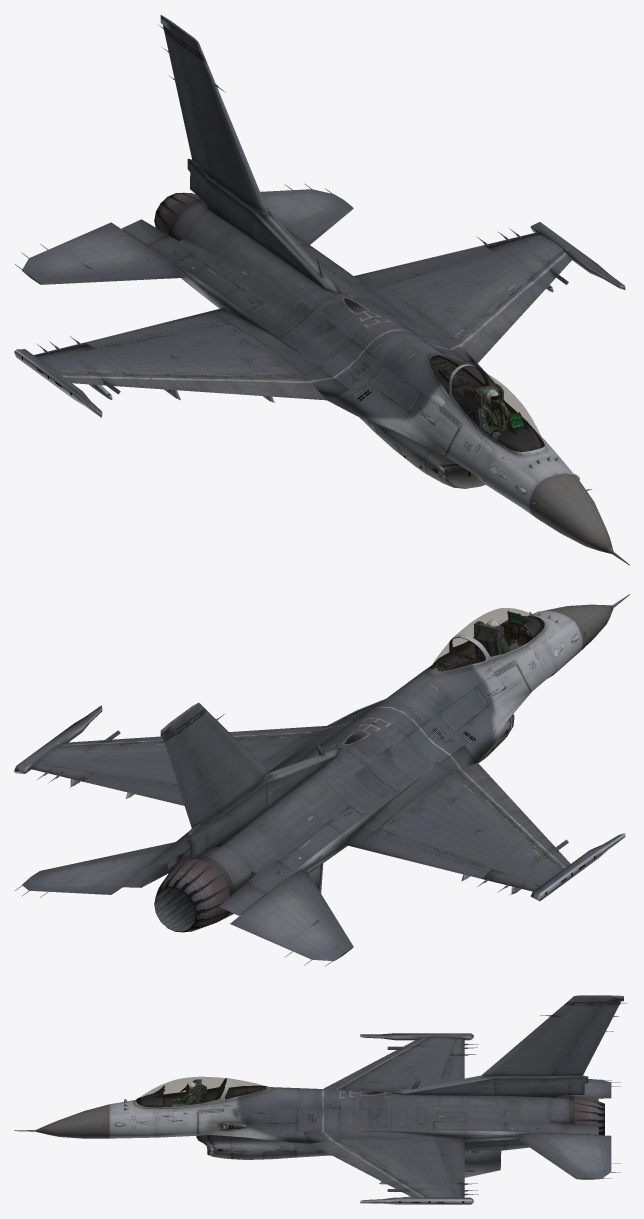
File: F-16A_FightingFalcon.dat.obj
3 renders of one model, top to bottom at view 1: azimuth 30°, elevation 25°; view 2: azimuth 150°, elevation 25°; view 3: azimuth 270°, elevation 25°, orthographic. The views are drawn at different scales.
Visible parts, largest first — view 1: F-16A_LOD0, F-16A_ElevatorR01, F-16A_Glass01, F-16A_VoletR01, F-16A_VoletL01, F-16A_ElevatorL01, F-16A_AileronR01, F-16A_AileronL01, F-16A_Canopy01, F-16A_RudderL01, F-16A_Pilot, F-16A_EngineL01; view 2: F-16A_LOD0, F-16A_ElevatorR01, F-16A_EngineL01, F-16A_ElevatorL01, F-16A_Glass01, F-16A_AileronR01, F-16A_VoletR01, F-16A_RudderL01, F-16A_AileronL01, F-16A_Canopy01, F-16A_VoletL01, F-16A_Eject_Seat (+2 smaller); view 3: F-16A_LOD0, F-16A_ElevatorL01, F-16A_Glass01, F-16A_RudderL01, F-16A_VoletL01, F-16A_AileronL01, F-16A_Canopy01, F-16A_EngineL01, F-16A_VoletR01, F-16A_ElevatorR01, F-16A_AileronR01, F-16A_BrakeL01 (+1 smaller).
Part boxes in pixels (box(x1,y1,x2,y2)): F-16A_LOD0: box(14, 15, 629, 565); F-16A_ElevatorR01: box(15, 222, 186, 284); F-16A_Glass01: box(430, 355, 544, 451); F-16A_VoletR01: box(58, 373, 326, 400); F-16A_VoletL01: box(456, 250, 572, 363); F-16A_ElevatorL01: box(260, 183, 353, 244); F-16A_AileronR01: box(84, 308, 246, 348); F-16A_AileronL01: box(354, 245, 493, 289); F-16A_Canopy01: box(438, 364, 557, 465); F-16A_RudderL01: box(158, 25, 210, 175); F-16A_Pilot: box(479, 389, 510, 440); F-16A_EngineL01: box(154, 192, 200, 234); F-16A_LOD0: box(14, 594, 629, 921); F-16A_ElevatorR01: box(230, 868, 353, 966); F-16A_EngineL01: box(154, 859, 229, 932); F-16A_ElevatorL01: box(15, 842, 175, 897); F-16A_Glass01: box(431, 608, 544, 671); F-16A_AileronR01: box(343, 824, 493, 879); F-16A_VoletR01: box(457, 762, 570, 869); F-16A_RudderL01: box(158, 729, 218, 829); F-16A_AileronL01: box(83, 772, 184, 805); F-16A_Canopy01: box(450, 616, 557, 672); F-16A_VoletL01: box(58, 726, 325, 746); F-16A_Eject_Seat: box(473, 621, 503, 660); F-16A_LOD0: box(14, 995, 623, 1204); F-16A_ElevatorL01: box(513, 1133, 621, 1179); F-16A_Glass01: box(136, 1077, 265, 1106); F-16A_RudderL01: box(553, 1001, 626, 1075); F-16A_VoletL01: box(310, 1139, 428, 1197); F-16A_AileronL01: box(434, 1135, 464, 1182); F-16A_Canopy01: box(130, 1078, 234, 1113); F-16A_EngineL01: box(574, 1096, 604, 1135); F-16A_VoletR01: box(323, 1038, 428, 1089); F-16A_ElevatorR01: box(570, 1079, 621, 1098); F-16A_AileronR01: box(440, 1055, 464, 1082); F-16A_BrakeL01: box(564, 1123, 598, 1135).
Bounding box in the file's own units: 9.56 × 4.63 × 14.98.
